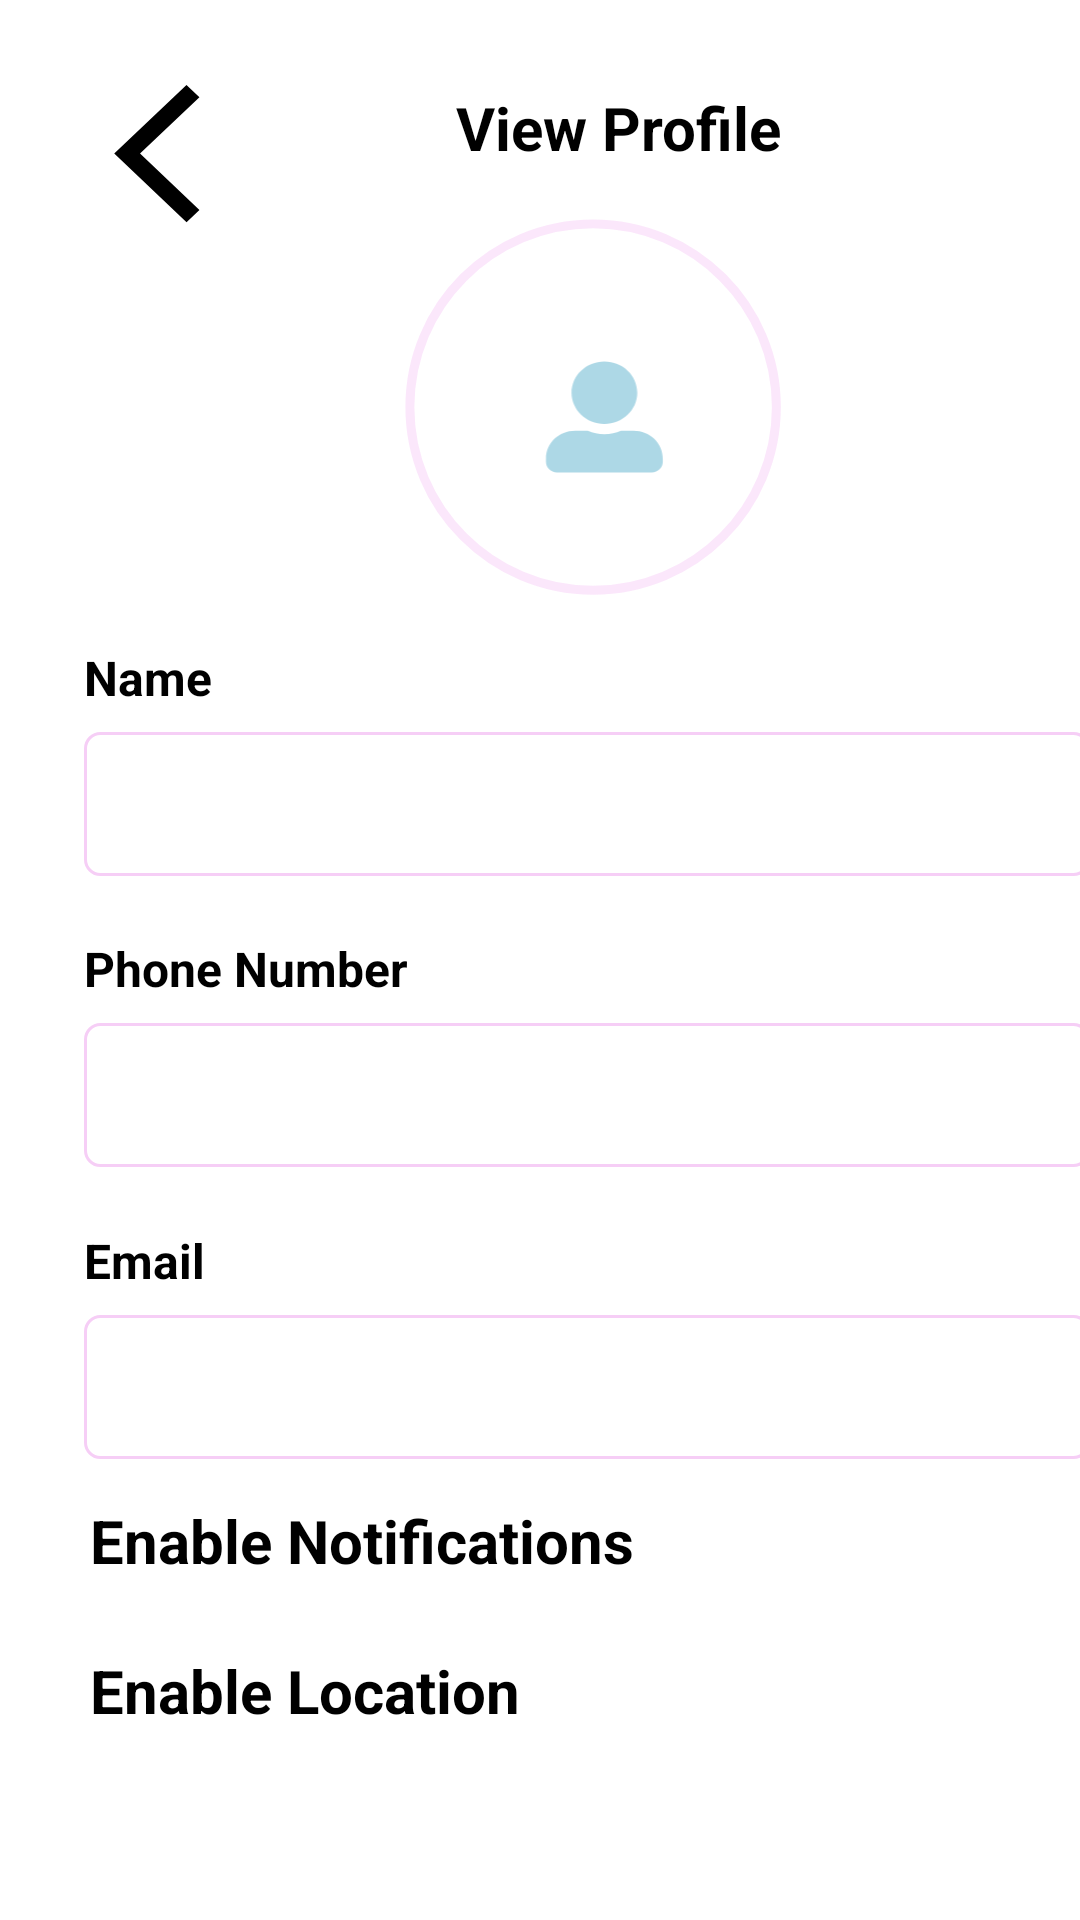

Screen size 1080*1920. Icon name, then its box in pixels as (x1, y1, x2, y2):
back less: (114, 85, 200, 222)
profile: (546, 361, 663, 473)
